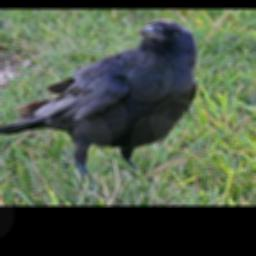Crow: (0, 18, 197, 187)
